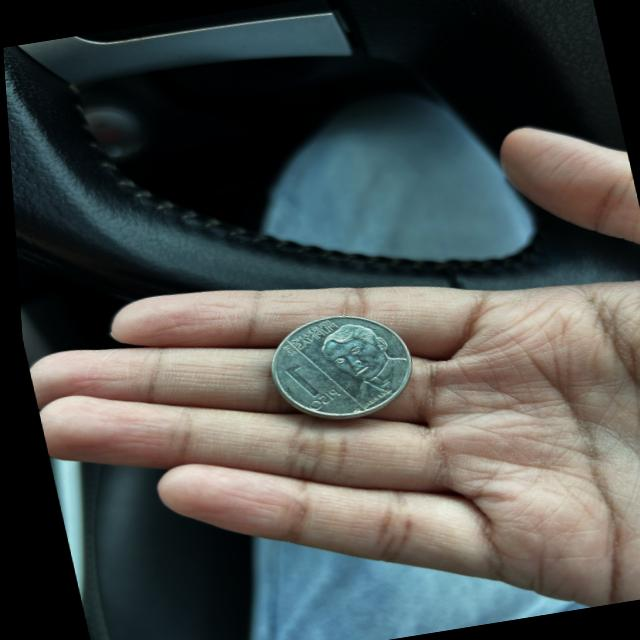1_New_Front: (282, 349, 338, 419)
